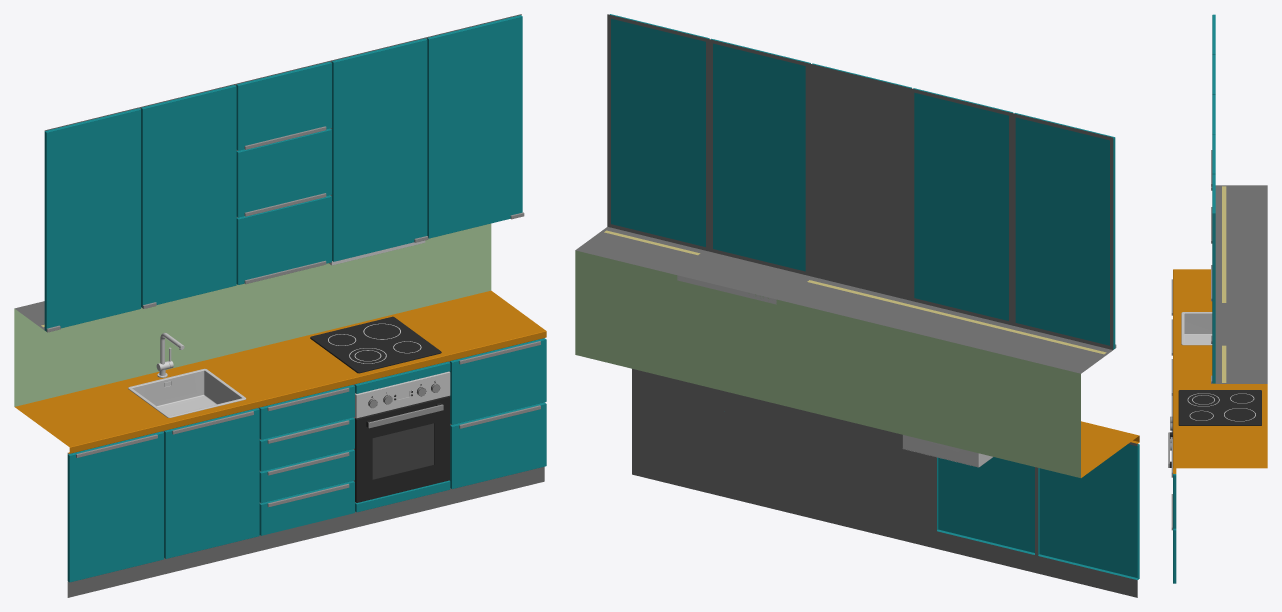
The model's file is Kitchen.fbx.
The picture shows the model from 3 angles, left to right: view 1: azimuth 30°, elevation 25°; view 2: azimuth 150°, elevation 25°; view 3: azimuth 270°, elevation 25°; orthographic projection. The views are drawn at different scales.
Parts seen in each view (by area): view 1: Kitchen; view 2: Kitchen; view 3: Kitchen.
Part boxes in pixels (bbox=[...]): Kitchen: bbox=[14, 14, 546, 597]; Kitchen: bbox=[575, 14, 1139, 597]; Kitchen: bbox=[1168, 14, 1267, 583].
Bounding box in the file's own units: 299 × 270 × 63.
